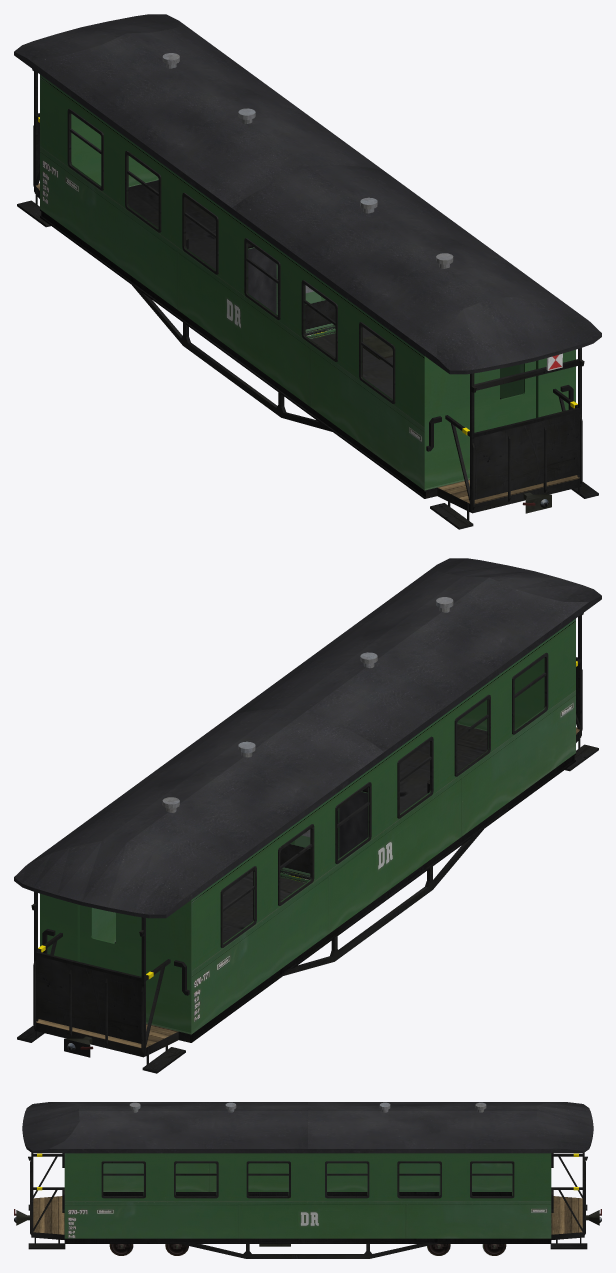
File: saechskb4.obj
The picture shows the model from 3 angles, top to bottom: view 1: azimuth 30°, elevation 25°; view 2: azimuth 150°, elevation 25°; view 3: azimuth 270°, elevation 25°; orthographic projection. The views are drawn at different scales.
Parts seen in each view (by area): view 1: saechskb4; view 2: saechskb4; view 3: saechskb4.
Boxes of the visible parts, x1,y1,x2,y2 form: saechskb4: (14,14,601,529); saechskb4: (14,558,601,1073); saechskb4: (14,1102,601,1258).
Bounding box in the file's own units: 2.35 × 3.25 × 12.28.
